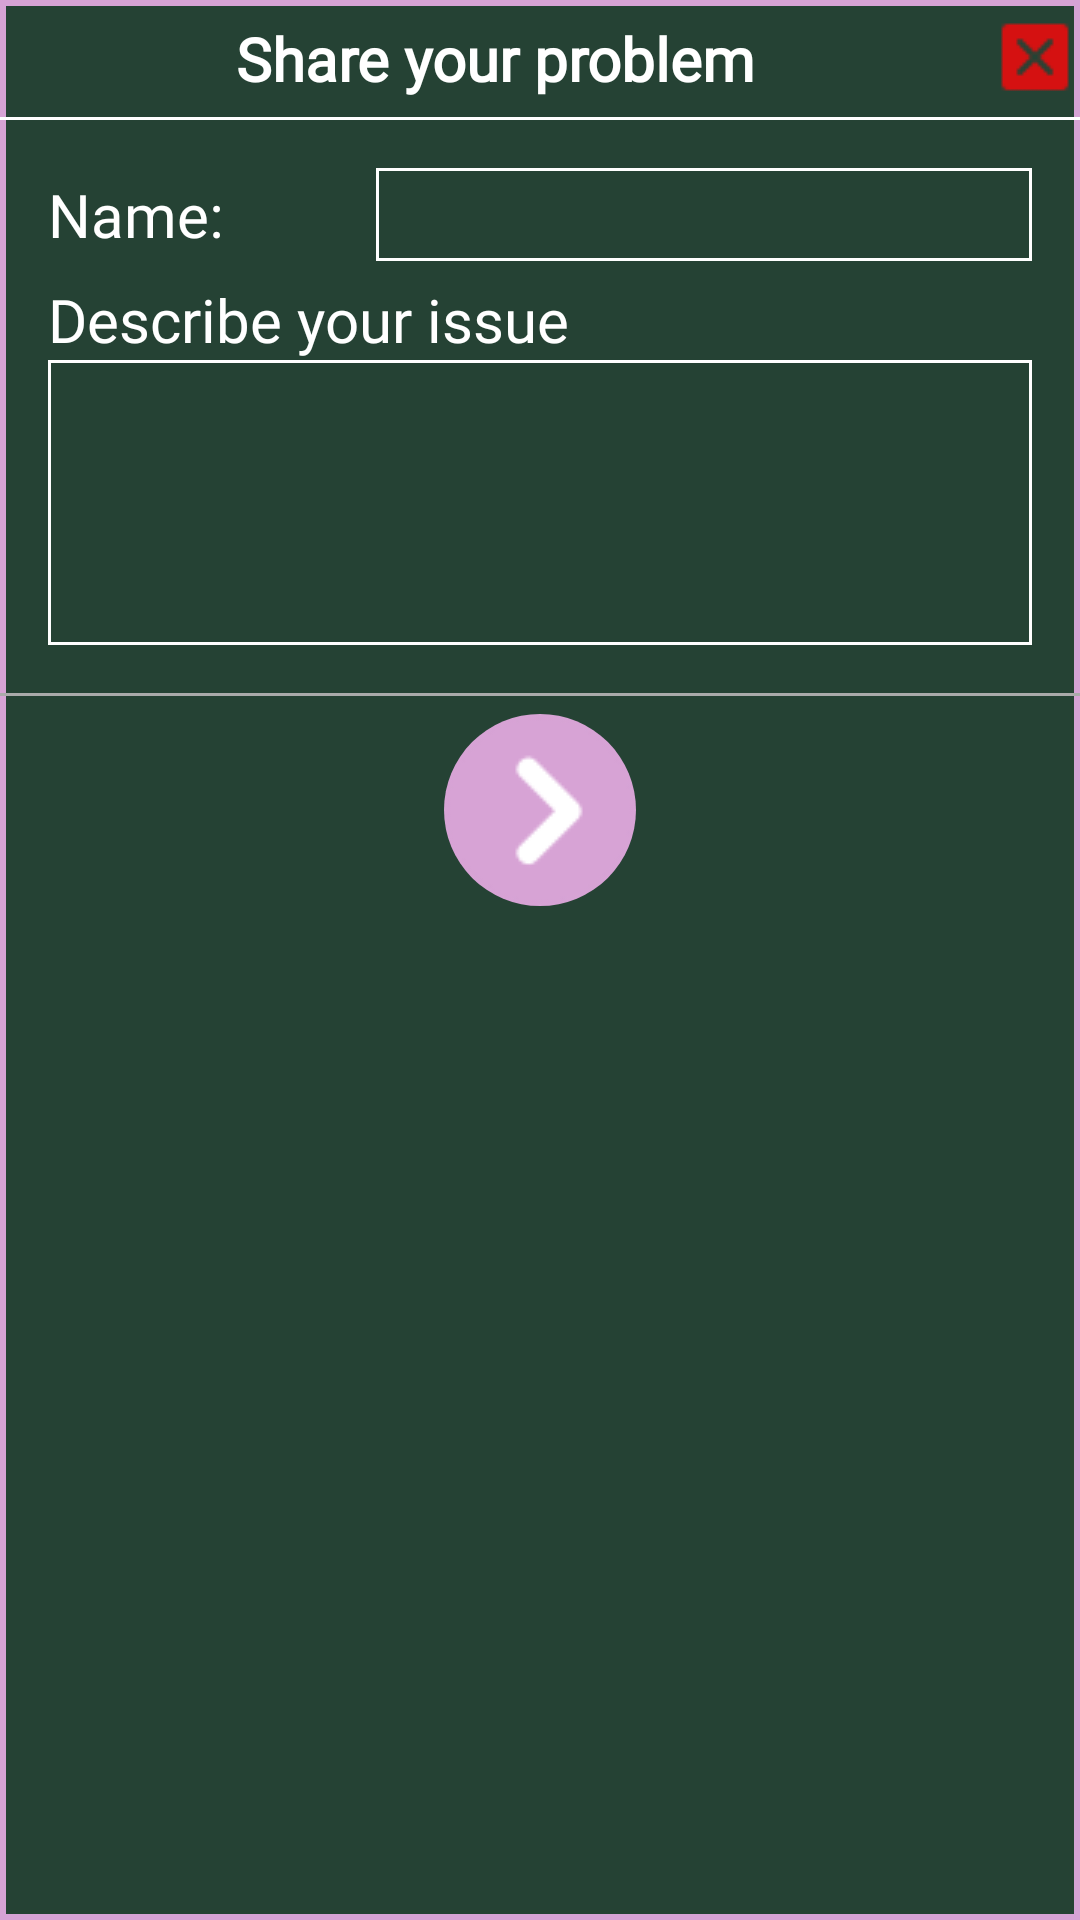

Locate icon controls on the screen. Image size 1080 x 1920, boxes as (x1, y1, x2, y2).
cross: (1001, 23, 1069, 91)
next: (444, 714, 636, 906)
